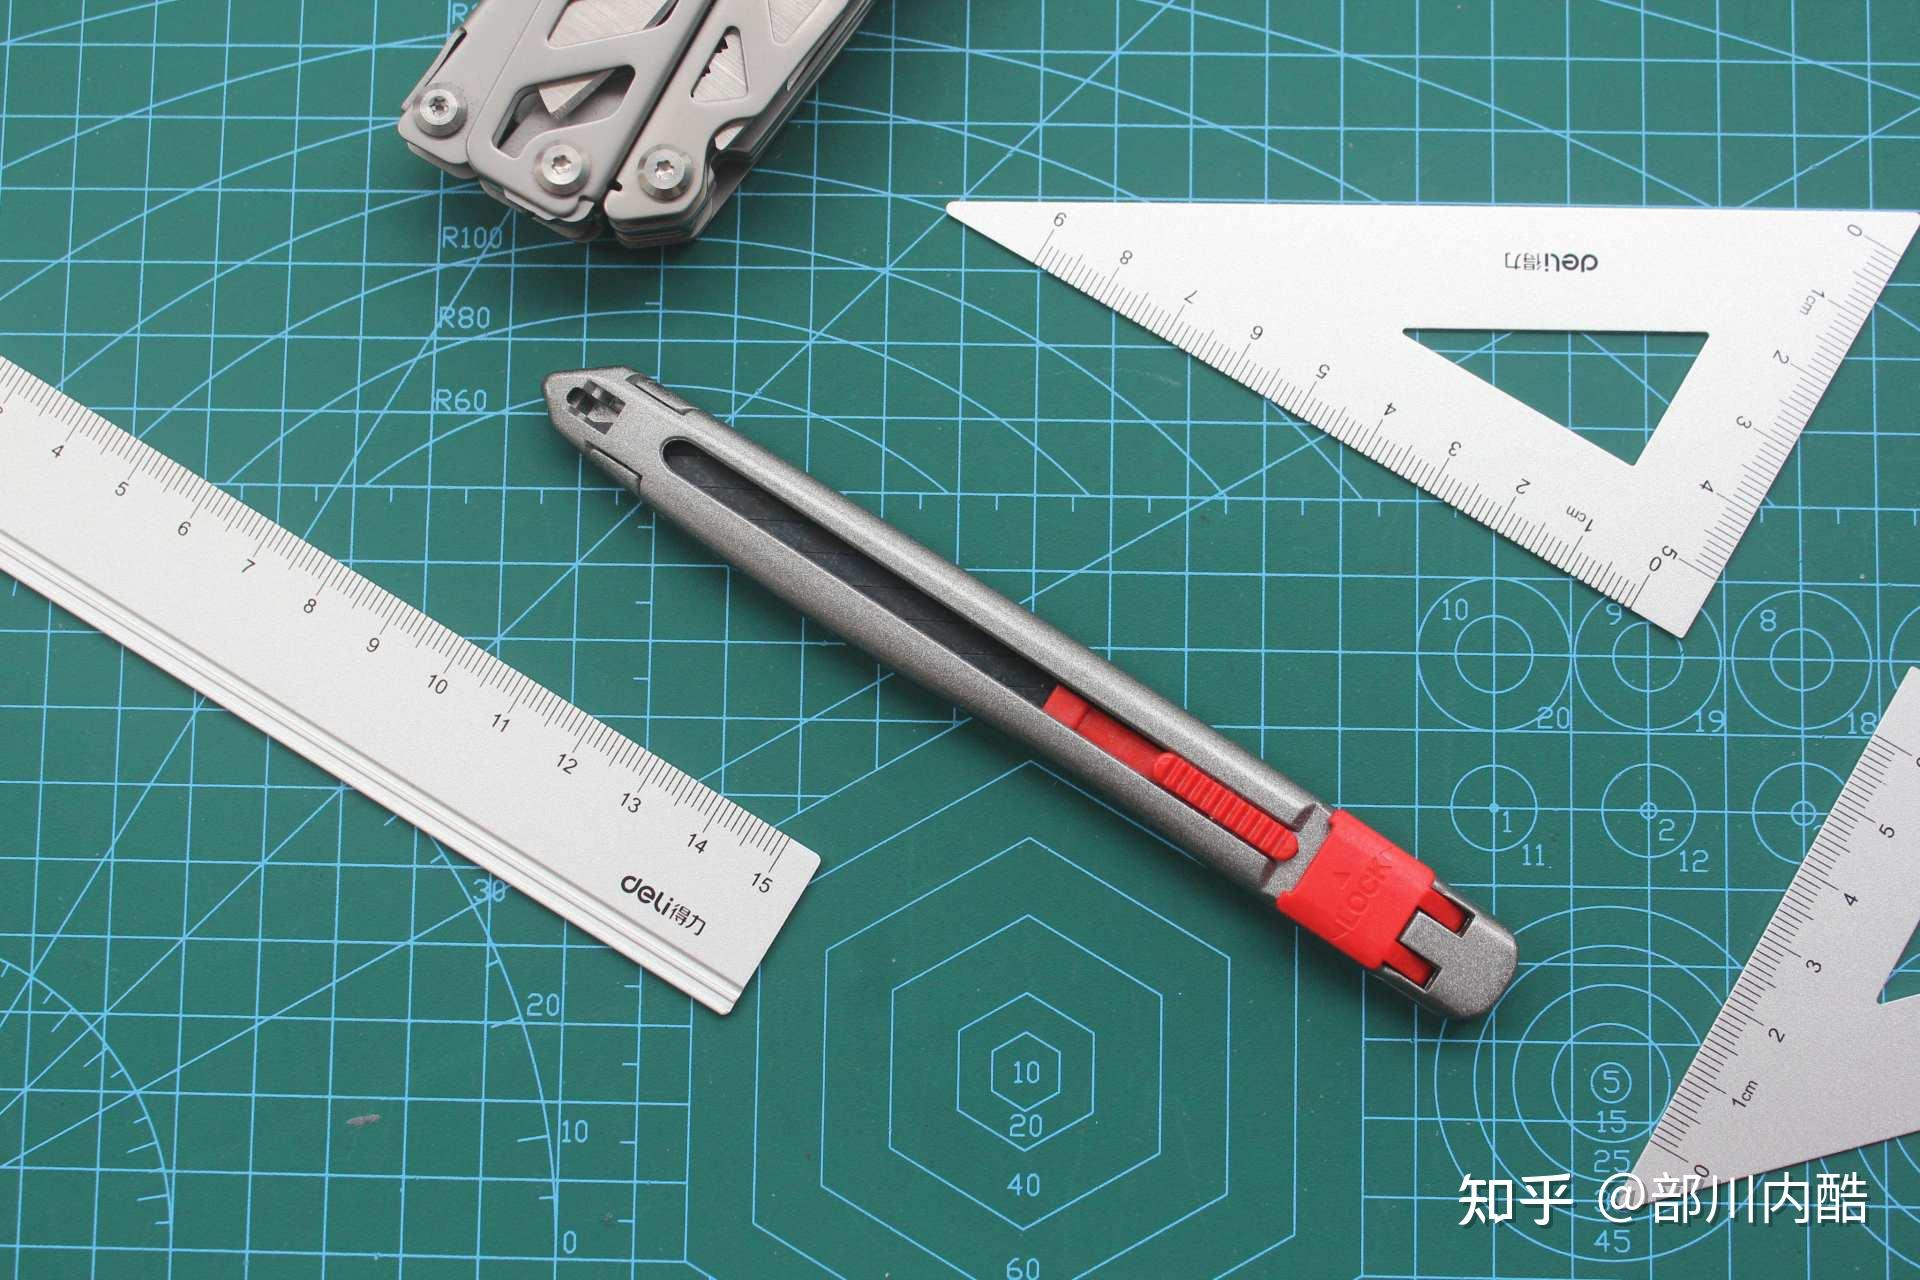cutter: (541, 356, 1514, 1026)
